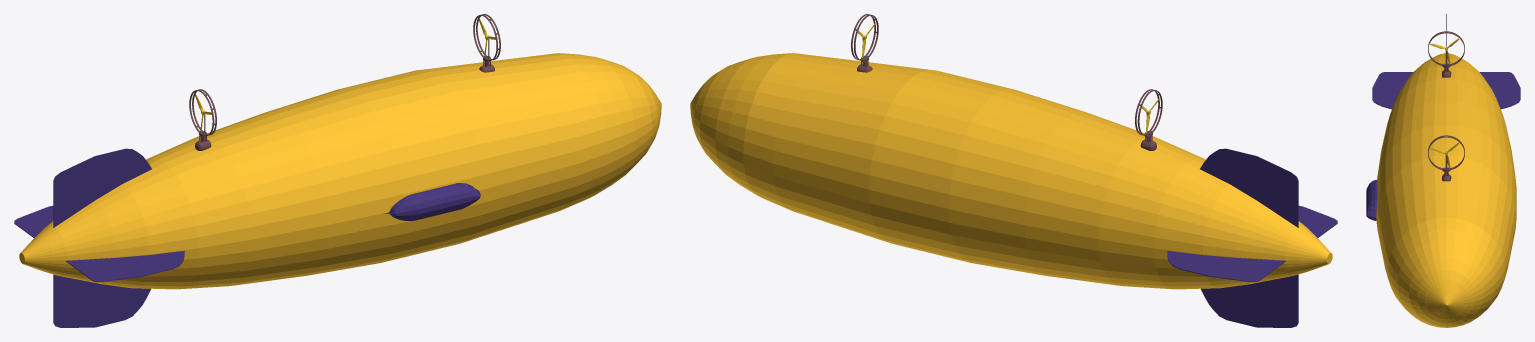
The model's file is zeppelin.fbx.
3 renders of one model, left to right at view 1: azimuth 30°, elevation 25°; view 2: azimuth 150°, elevation 25°; view 3: azimuth 270°, elevation 25°, orthographic. The views are drawn at different scales.
Parts seen in each view (by area): view 1: Zeppelin; view 2: Zeppelin; view 3: Zeppelin.
Boxes of the visible parts, bbox=[...] form: Zeppelin: bbox=[14, 14, 661, 327]; Zeppelin: bbox=[690, 14, 1337, 327]; Zeppelin: bbox=[1366, 14, 1520, 327].
Size of the model in its own units: 2577 by 830 by 685.
